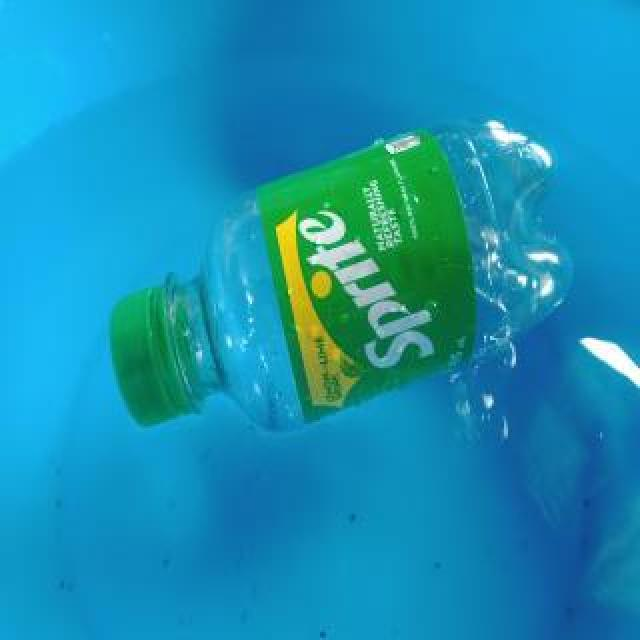bottle: (109, 113, 575, 429)
